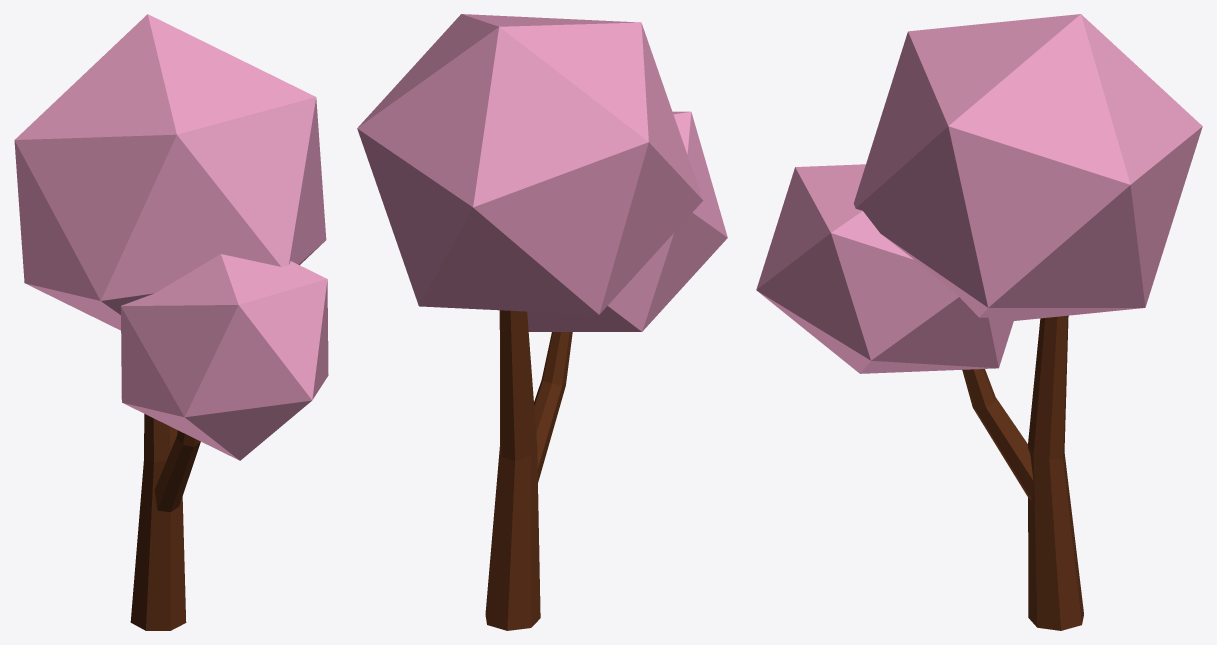
File: tree5.glb
3 renders of one model, left to right at view 1: azimuth 30°, elevation 25°; view 2: azimuth 150°, elevation 25°; view 3: azimuth 270°, elevation 25°, orthographic.
Parts seen in each view (by area): view 1: Cylinder.003; view 2: Cylinder.003; view 3: Cylinder.003.
Part boxes in pixels (left/top/right/bottom): Cylinder.003: left=14, top=14, right=328, bottom=630; Cylinder.003: left=357, top=14, right=727, bottom=630; Cylinder.003: left=756, top=14, right=1202, bottom=630.
Size of the model in its own units: 2.52 by 5.24 by 3.5.
